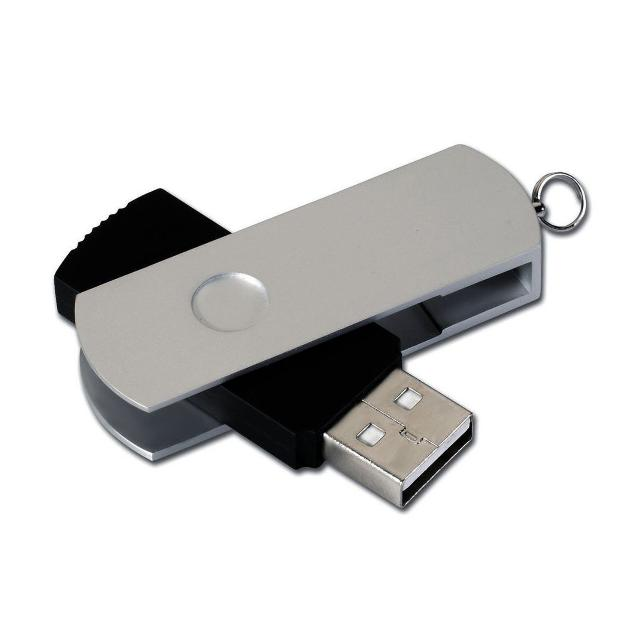USB-Flash-Drive: (51, 136, 604, 534)
